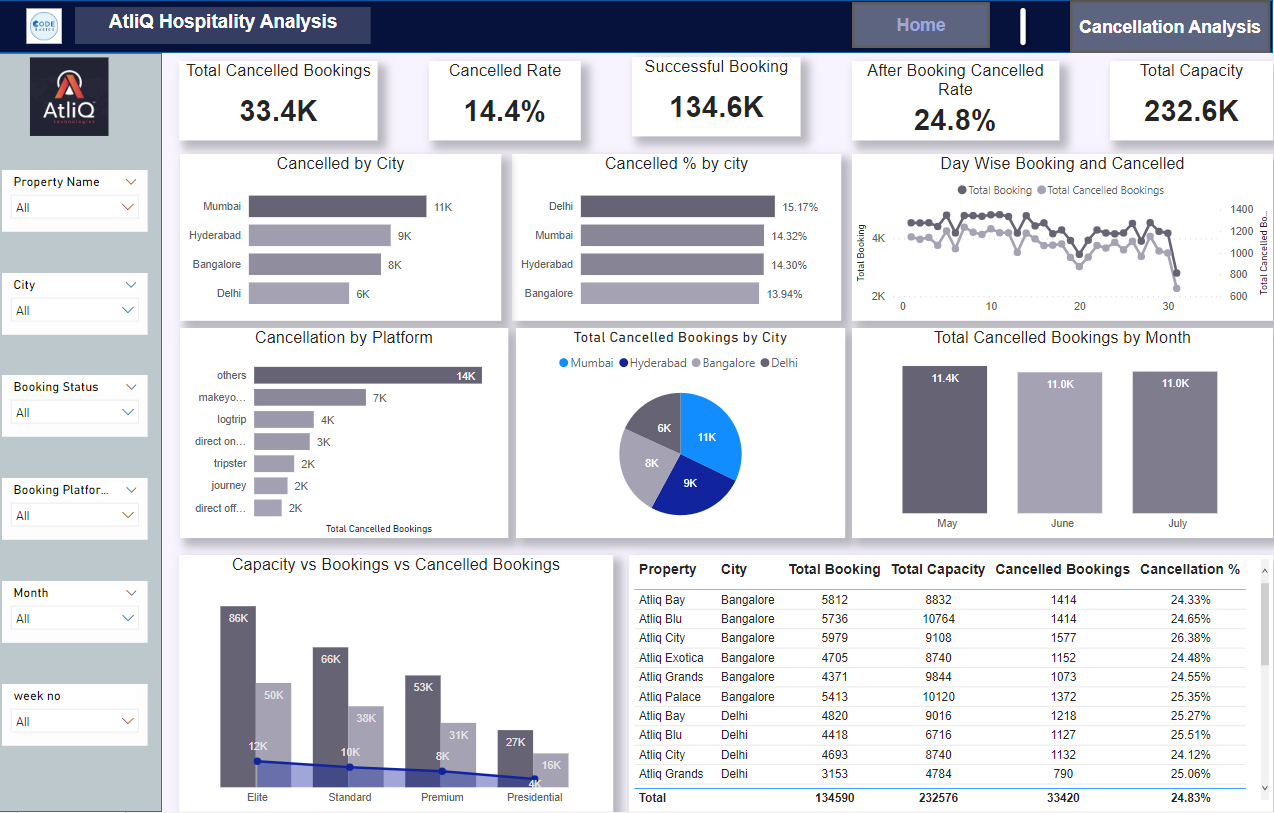

What the dashboard file says about the page in this screenshot:
{"tool":"powerbi","page":{"name":"Cancellation","canvas":[1460,920],"ordinal":1},"visuals":[{"type":"shape","box":[0,60,185.8,860],"z":0},{"type":"card","title":"Total Cancelled Bookings","fields":{"Values":["measure.Total Cancelled Bookings"]},"box":[205.1,69.1,225.5,89.5],"z":1000},{"type":"card","title":"Total Capacity","fields":{"Values":["measure.Total Capacity"]},"box":[1259.9,69.1,184.7,89.5],"z":2000},{"type":"card","title":"Successful Booking","fields":{"Values":["measure.Total Succesful Booking"]},"box":[718.3,64.6,191.5,89.5],"z":3000},{"type":"card","title":"Cancelled Rate","fields":{"Values":["measure.Cancelled %"]},"box":[488.3,69.1,172.2,89.5],"z":4000},{"type":"card","title":"After Booking Cancelled Rate","fields":{"Values":["measure.cancelld rate ss"]},"box":[967.6,69.1,234.5,89.5],"z":5000},{"type":"barChart","fields":{"Y":["measure.Cancelled %"],"Category":["dim_hotels.city"]},"box":[582.4,174.5,372.8,189.2],"z":6000},{"type":"barChart","title":"Cancelled by City","fields":{"Y":["measure.Total Cancelled Bookings"],"Category":["dim_hotels.city"]},"box":[206.2,174.5,363.7,189.2],"z":7000},{"type":"lineChart","title":"Day Wise Booking and Cancelled ","fields":{"Y2":["measure.Total Cancelled Bookings"],"Y":["measure.Total Booking"],"Category":["dim_date.date.Variation.Date Hierarchy.Day"]},"box":[967.6,174.5,477,189.2],"z":8000},{"type":"tableEx","fields":{"Values":["dim_hotels.property_name","dim_hotels.city","measure.Total Booking","measure.Total Capacity","measure.Total Cancelled Bookings","measure.Cancellation %"]},"box":[714.9,628.8,729.7,291.2],"z":9000},{"type":"slicer","fields":{"Values":["dim_hotels.property_name"]},"box":[4.5,192.6,165,70],"z":10000},{"type":"slicer","title":"City","fields":{"Values":["dim_hotels.city"]},"box":[4.5,308.9,165,70],"z":11000},{"type":"slicer","fields":{"Values":["fact_bookings.booking_status"]},"box":[4.5,425.3,165.4,70.2],"z":12000},{"type":"slicer","fields":{"Values":["fact_bookings.booking_platform"]},"box":[4.5,541.8,165.4,70.2],"z":13000},{"type":"slicer","fields":{"Values":["dim_date.Month"]},"box":[4.5,658.4,165.4,70.2],"z":14000},{"type":"slicer","fields":{"Values":["dim_date.week no"]},"box":[4.5,775,165,70],"z":15000},{"type":"shape","box":[0,0,1444.6,60],"z":16000},{"type":"barChart","title":"Cancellation by Platform","fields":{"Y":["measure.Total Cancelled Bookings"],"Category":["fact_bookings.booking_platform"]},"box":[206.2,371.6,371.6,237.9],"z":17000},{"type":"lineClusteredColumnComboChart","title":"Capacity vs Bookings vs Cancelled Bookings","fields":{"Category":["dim_rooms.room_class"],"Y":["measure.Total Capacity","measure.Total Booking"],"Y2":["measure.Total Cancelled Bookings"]},"box":[205.1,628.8,491.7,291.2],"z":18000},{"type":"image","box":[10.2,4.5,82.7,49.9],"z":19000},{"type":"textbox","box":[87.2,7.9,335.4,41.9],"z":20000},{"type":"image","box":[10.2,60,140.5,98.6],"z":21000},{"type":"pieChart","fields":{"Y":["measure.Total Cancelled Bookings"],"Category":["dim_hotels.city"]},"box":[586.3,371.6,372.8,237.9],"z":22000},{"type":"columnChart","fields":{"Y":["measure.Total Cancelled Bookings"],"Category":["dim_date.date.Variation.Date Hierarchy.Month"]},"box":[967.6,371.6,477,237.9],"z":23000},{"type":"actionButton","title":"Home","box":[1214.7,0,226.6,60],"z":24000},{"type":"shape","box":[1126.3,0,70.2,60],"z":25000},{"type":"actionButton","title":"Home","box":[967.6,2.3,156.4,52.1],"z":26000}]}

Visuals, with their boxes in screenshot pixels (x1, y1, x2, y2), scaled from the page's 1460x920 canvas onto the 1274x813 screenshot:
shape: <region>0, 53, 162, 812</region>
"Total Cancelled Bookings" card: <region>179, 61, 376, 140</region>
"Total Capacity" card: <region>1099, 61, 1261, 140</region>
"Successful Booking" card: <region>627, 57, 794, 136</region>
"Cancelled Rate" card: <region>426, 61, 576, 140</region>
"After Booking Cancelled Rate" card: <region>844, 61, 1049, 140</region>
barChart - measure.Cancelled % x dim_hotels.city: <region>508, 154, 834, 321</region>
"Cancelled by City" barChart: <region>180, 154, 497, 321</region>
"Day Wise Booking and Cancelled " lineChart: <region>844, 154, 1261, 321</region>
tableEx - dim_hotels.property_name x dim_hotels.city: <region>624, 556, 1261, 812</region>
slicer - dim_hotels.property_name: <region>4, 170, 148, 232</region>
"City" slicer: <region>4, 273, 148, 335</region>
slicer - fact_bookings.booking_status: <region>4, 376, 148, 438</region>
slicer - fact_bookings.booking_platform: <region>4, 479, 148, 541</region>
slicer - dim_date.Month: <region>4, 582, 148, 644</region>
slicer - dim_date.week no: <region>4, 685, 148, 747</region>
shape: <region>0, 0, 1261, 53</region>
"Cancellation by Platform" barChart: <region>180, 328, 504, 539</region>
"Capacity vs Bookings vs Cancelled Bookings" lineClusteredColumnComboChart: <region>179, 556, 608, 812</region>
image: <region>9, 4, 81, 48</region>
textbox: <region>76, 7, 369, 44</region>
image: <region>9, 53, 132, 140</region>
pieChart - measure.Total Cancelled Bookings x dim_hotels.city: <region>512, 328, 837, 539</region>
columnChart - measure.Total Cancelled Bookings x dim_date.date.Variation.Date Hierarchy.Month: <region>844, 328, 1261, 539</region>
"Home" actionButton: <region>1060, 0, 1258, 53</region>
shape: <region>983, 0, 1044, 53</region>
"Home" actionButton: <region>844, 2, 981, 48</region>
